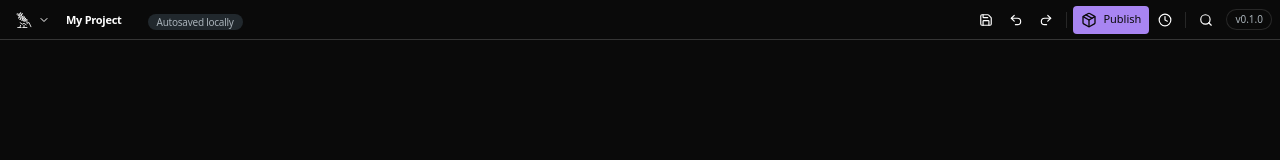
Navbar inline rename (characterization) › Click on name button enters edit mode with draft = current name
What coordinates should you click on to do the following:
click the button "My Project"
I would click on:
 (102, 20)
Its box is [62, 10, 142, 30].
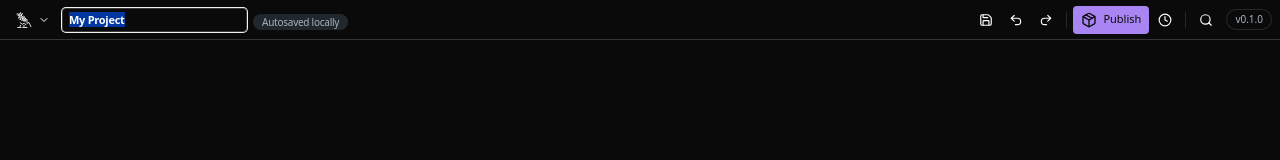
Check: the field holds "My Project", box [62, 8, 247, 32]
